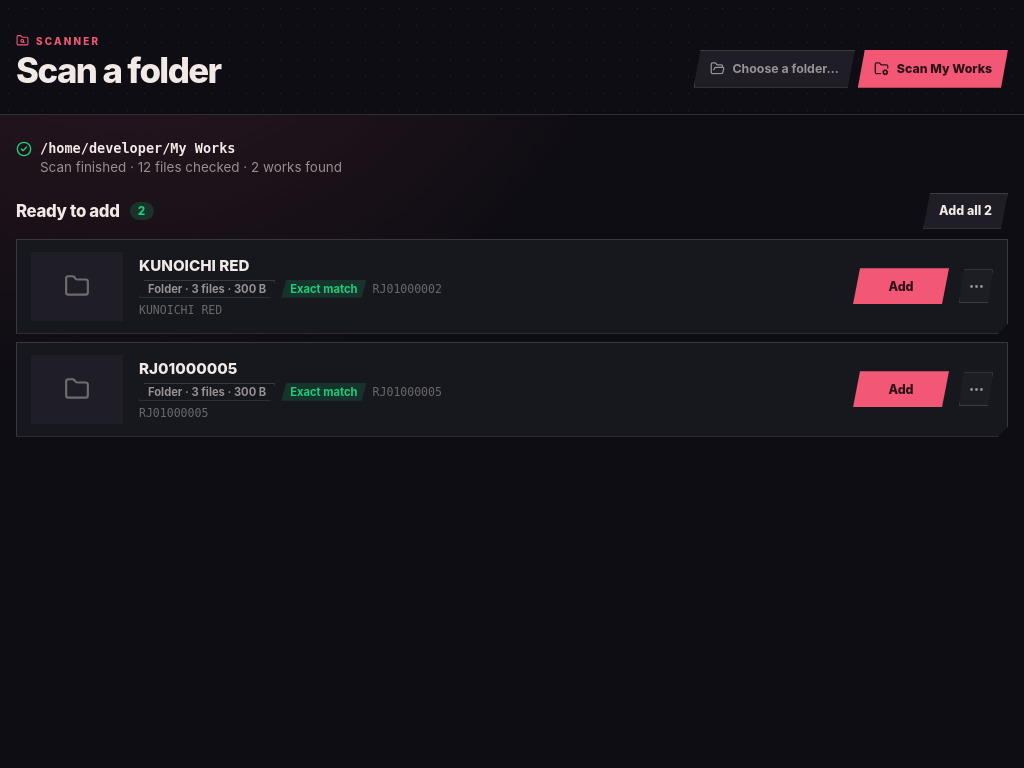
Test: ScannerPage › adds every ready work at once
Click the button "Add all 2": (966, 211) [923,193,1008,229]
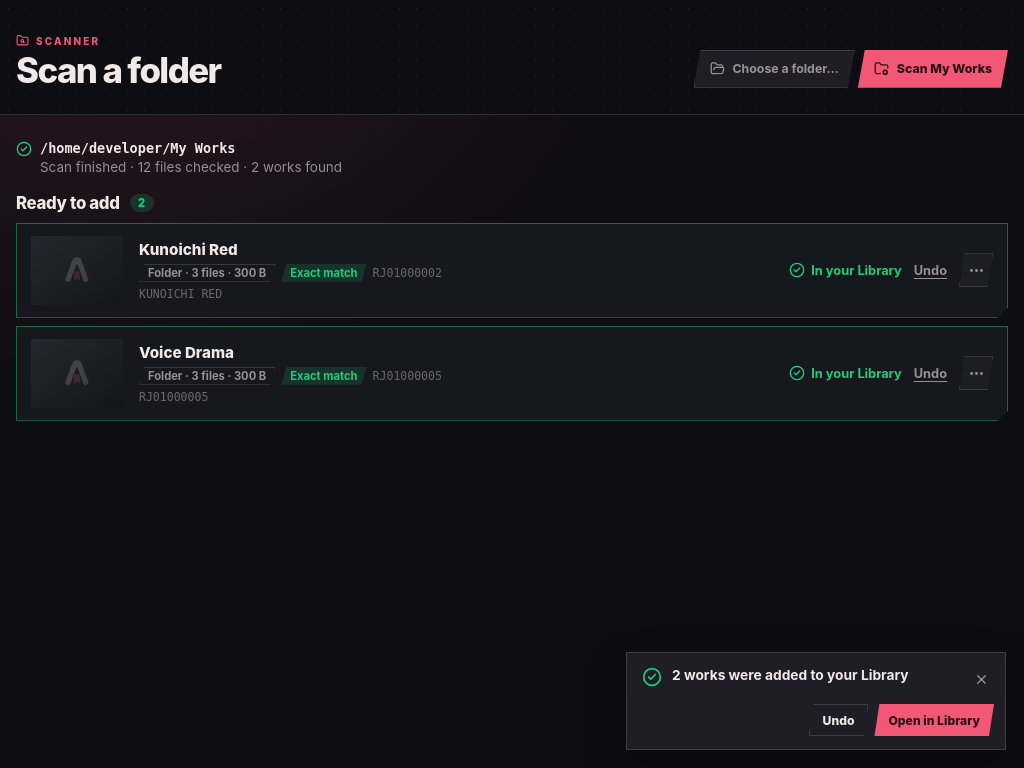
Expected: the text "2 works were added to your Library" is shown, [672,667,909,683]
